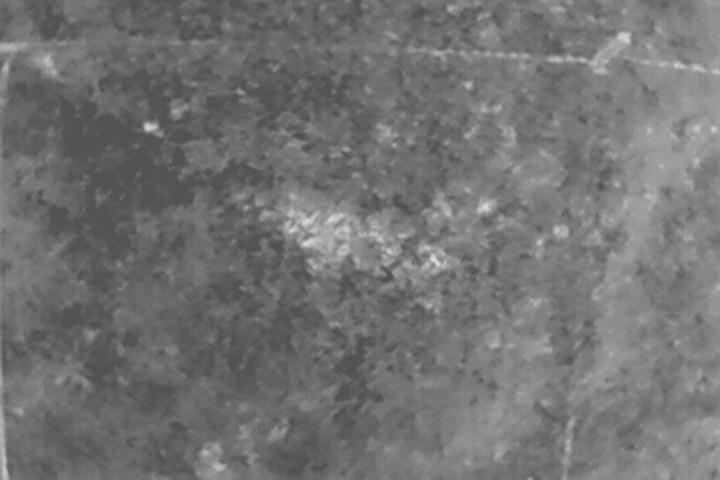landmine: (291, 201, 353, 263)
